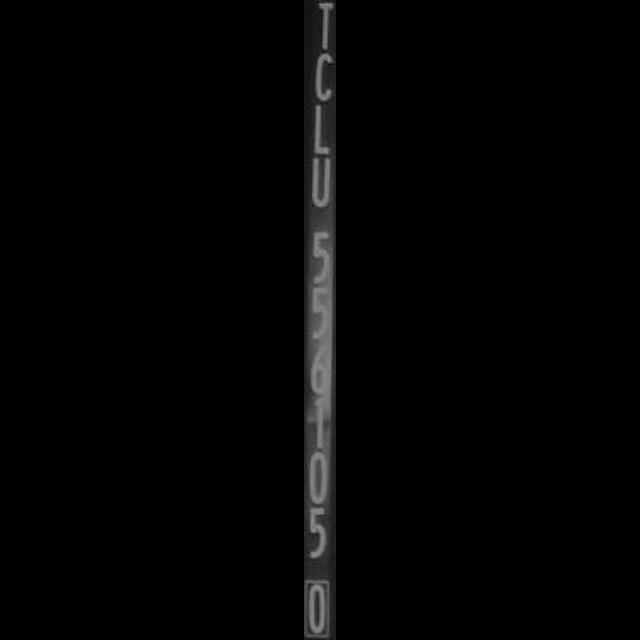0: (304, 449, 336, 506), (304, 580, 334, 640)
1: (304, 400, 336, 450)
5: (304, 280, 336, 344), (304, 223, 336, 285), (304, 508, 336, 564)
6: (304, 342, 336, 396)
c: (309, 50, 336, 101)
l: (306, 98, 336, 154)
t: (315, 0, 337, 48)
u: (304, 152, 336, 208)
